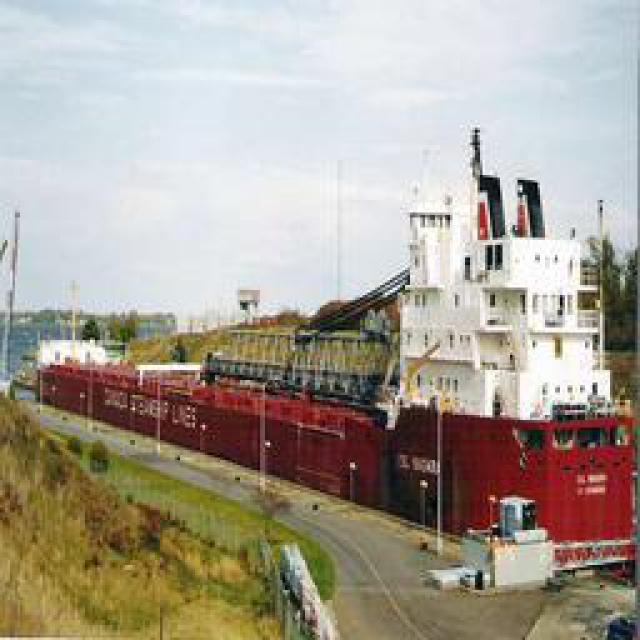Ship: (6, 123, 640, 595)
